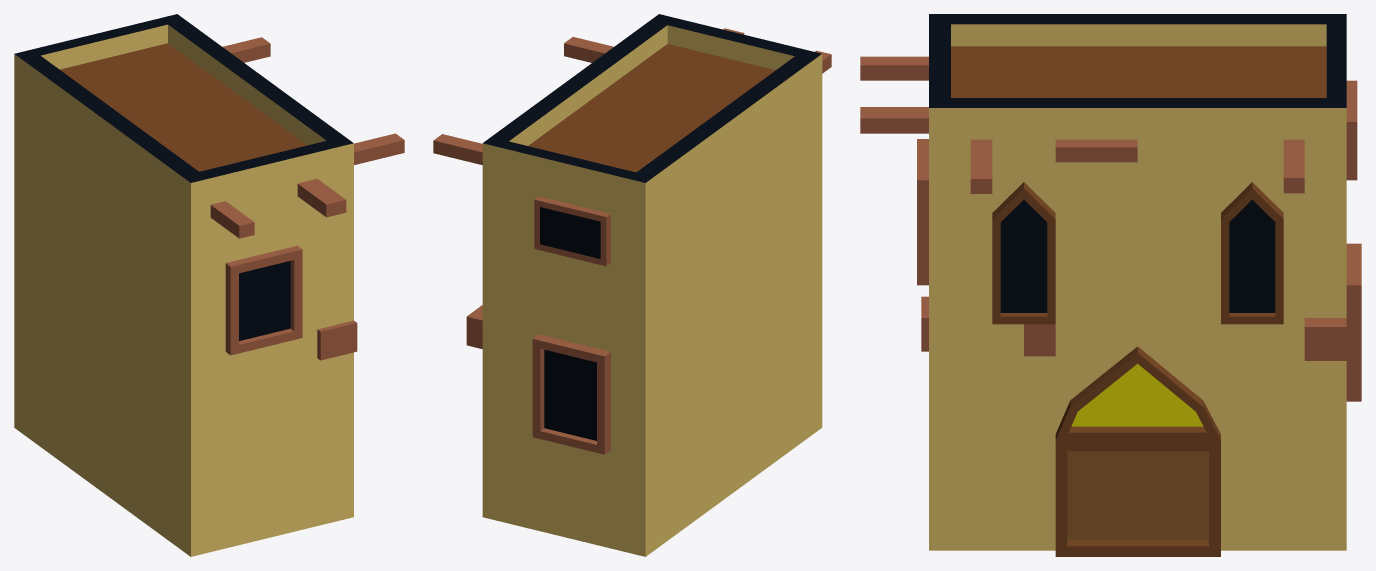
File: Unpedacitodecasa.fbx
3 views of the same model, side by side, from view 1: azimuth 30°, elevation 25°; view 2: azimuth 150°, elevation 25°; view 3: azimuth 270°, elevation 25° (orthographic). The views are drawn at different scales.
Parts seen in each view (by area): view 1: Cube; view 2: Cube; view 3: Cube.
Boxes of the visible parts, <box> form: Cube: <box>14,14,404,556</box>; Cube: <box>433,14,831,556</box>; Cube: <box>860,14,1361,556</box>.
Size of the model in its own units: 2.84 by 4.38 by 4.5.
